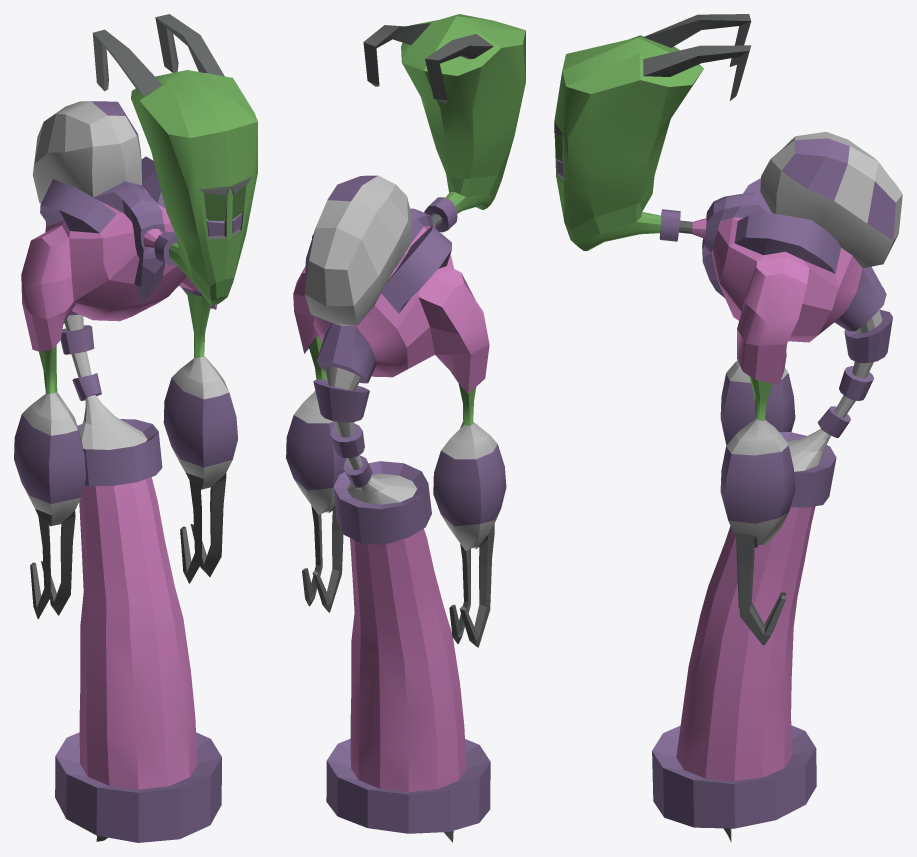
Rendered from Tall_Zim.fbx.
3 views of the same model, side by side, from view 1: azimuth 30°, elevation 25°; view 2: azimuth 150°, elevation 25°; view 3: azimuth 270°, elevation 25° (orthographic).
Parts seen in each view (by area): view 1: pCylinder3; view 2: pCylinder3; view 3: pCylinder3.
Part boxes in pixels (x1,y1,x2,y2): pCylinder3: (14, 14, 257, 842); pCylinder3: (286, 14, 525, 842); pCylinder3: (554, 14, 902, 842).
Size of the model in its own units: 2.65 by 9.82 by 3.93.
